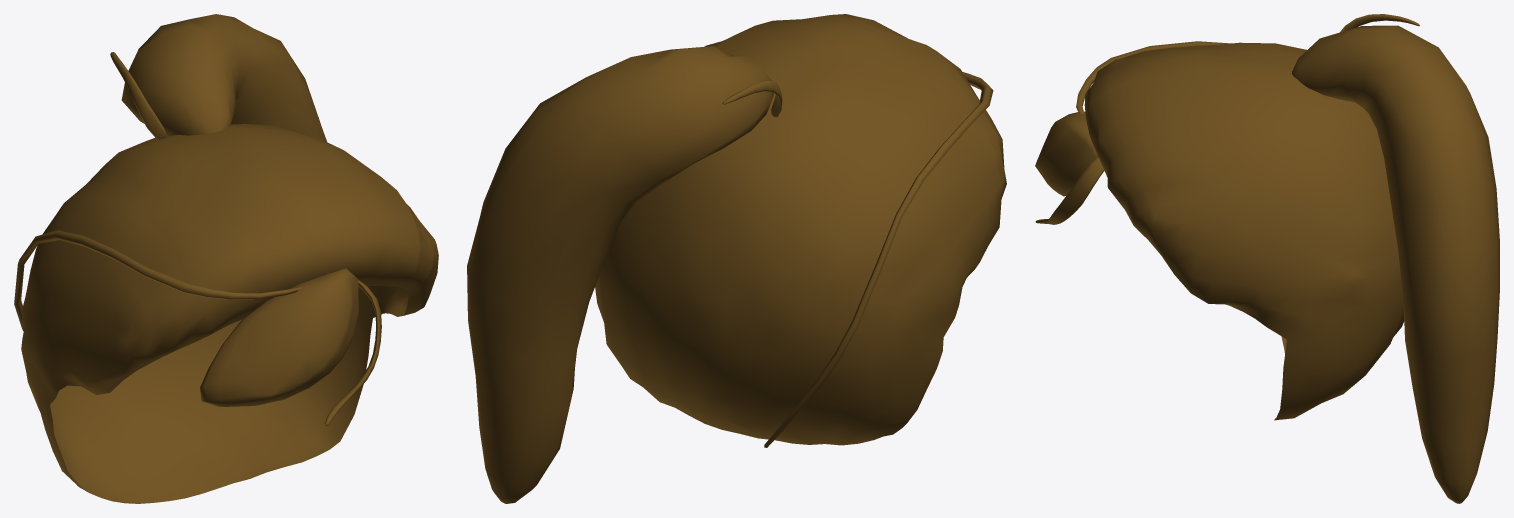
File: Girl Hair 10.glb
3 views of the same model, side by side, from view 1: azimuth 30°, elevation 25°; view 2: azimuth 150°, elevation 25°; view 3: azimuth 270°, elevation 25° (orthographic). The views are drawn at different scales.
Parts seen in each view (by area): view 1: GirlHair10; view 2: GirlHair10; view 3: GirlHair10.
Part boxes in pixels (x1=…): GirlHair10: x1=14, y1=14, x2=438, y2=503; GirlHair10: x1=467, y1=14, x2=1006, y2=503; GirlHair10: x1=1035, y1=14, x2=1499, y2=503.
Bounding box in the file's own units: 0.0101 × 0.0115 × 0.0116.
